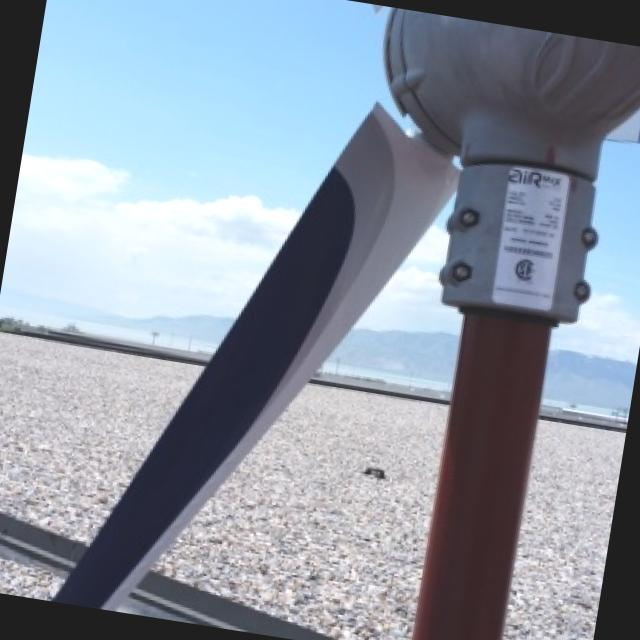healthy: (586, 141, 640, 316)
